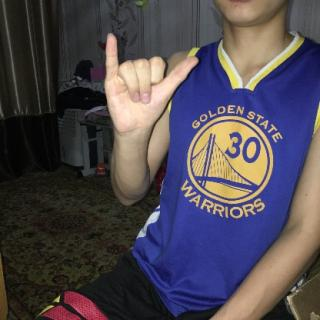YA: (103, 28, 202, 135)
